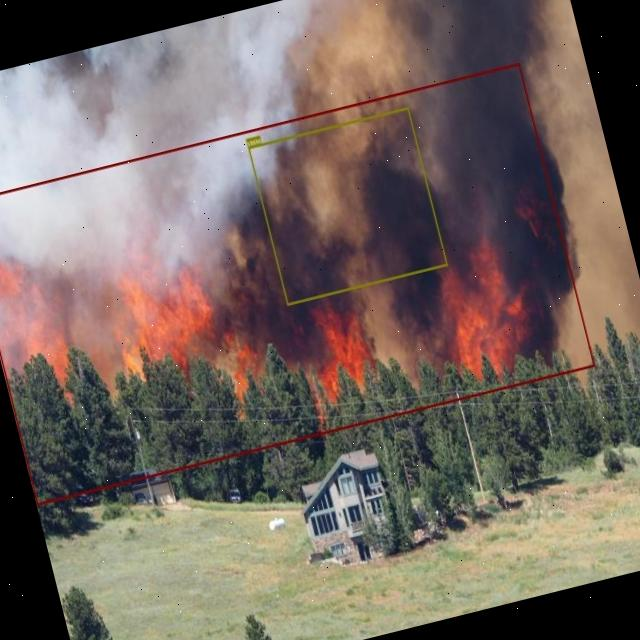fire: (0, 62, 594, 504)
smoke: (247, 106, 448, 304)
